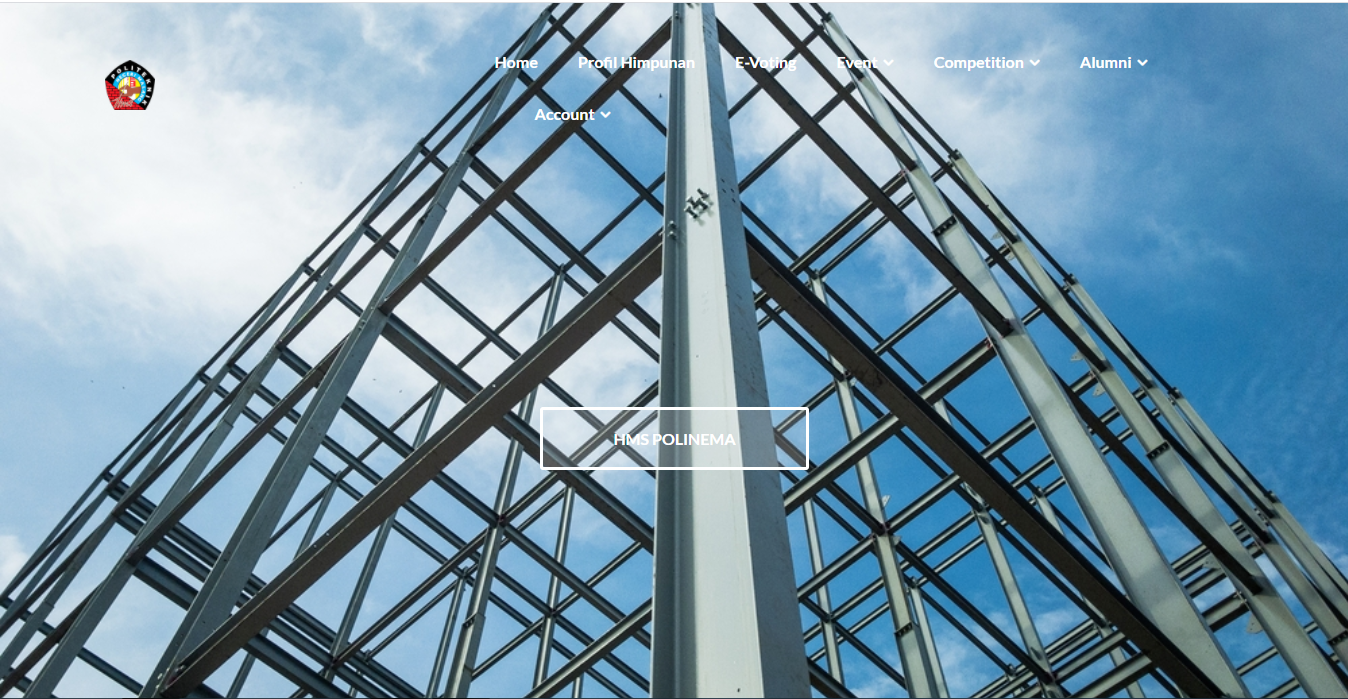Button: (537, 407, 812, 471)
Image: (0, 0, 1348, 699), (95, 49, 161, 125)
Menu Bar: (471, 41, 1153, 87), (509, 100, 620, 131)
